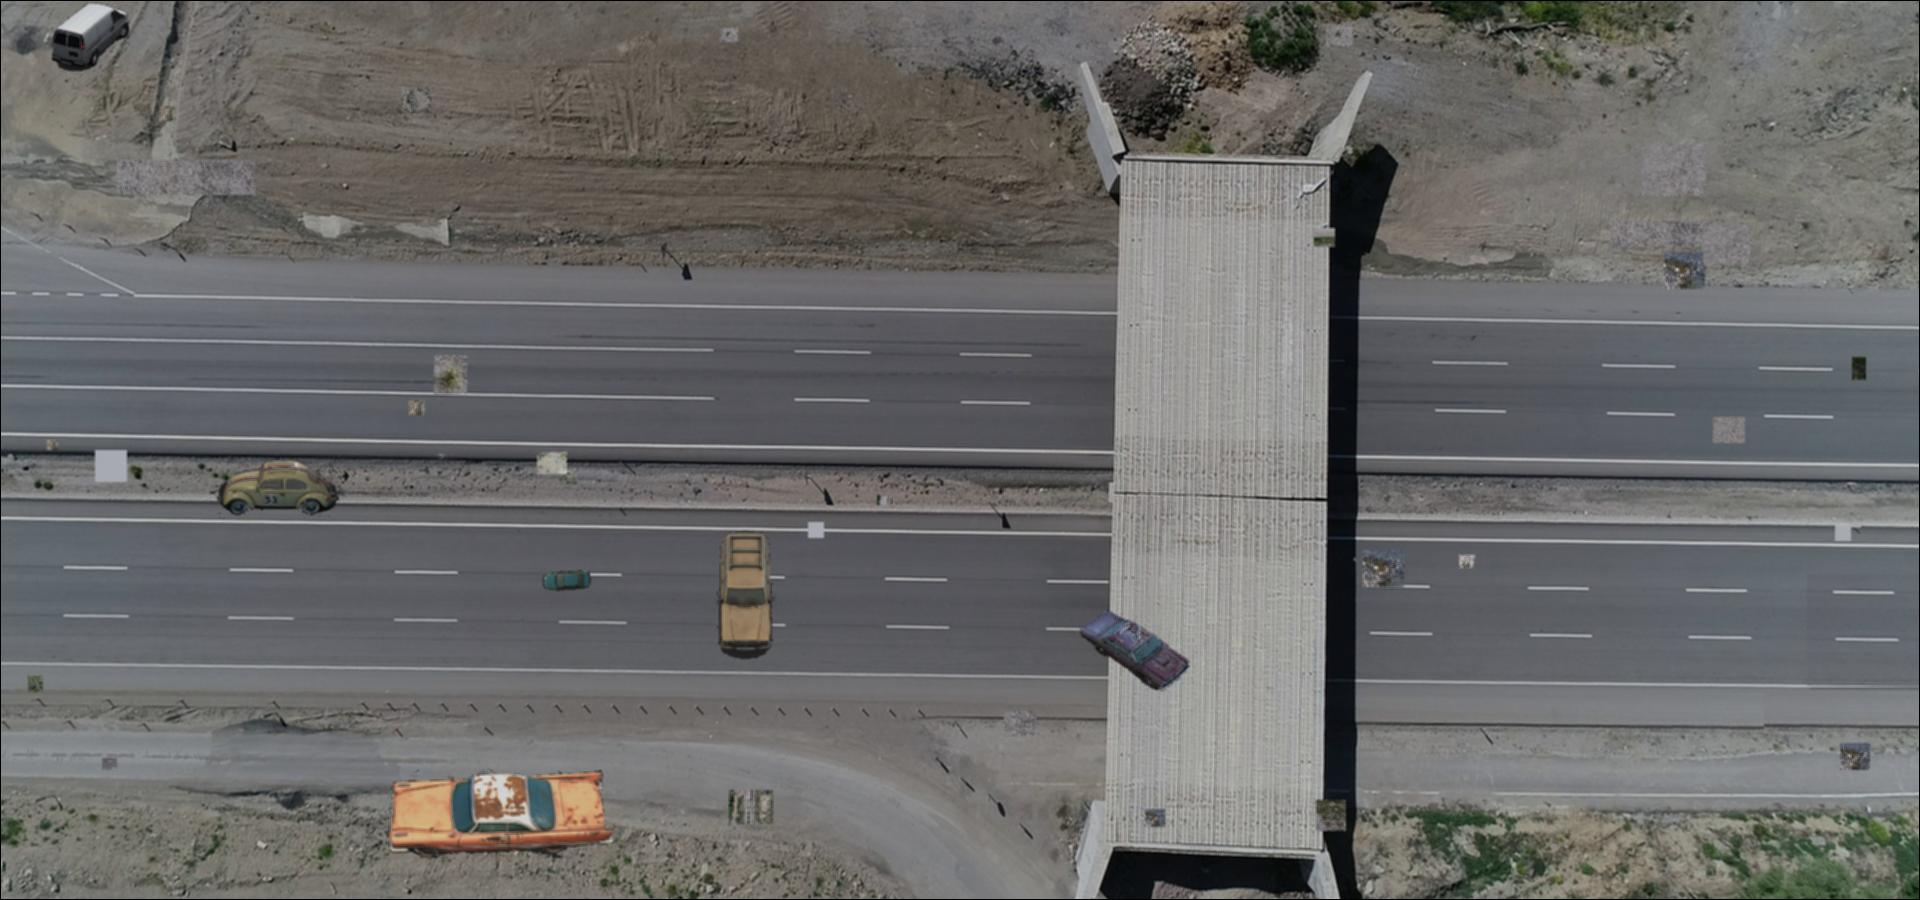arac: (380, 769, 642, 858), (1075, 606, 1191, 691), (211, 457, 344, 520), (715, 529, 778, 659), (51, 2, 130, 71), (542, 571, 591, 591)
